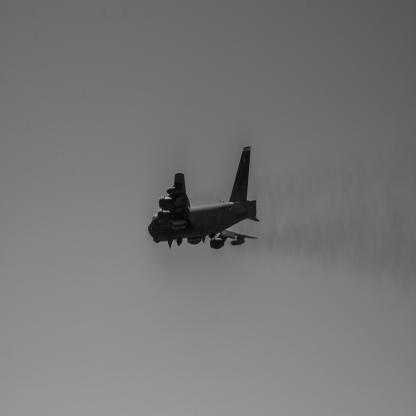B52: (149, 147, 261, 251)
